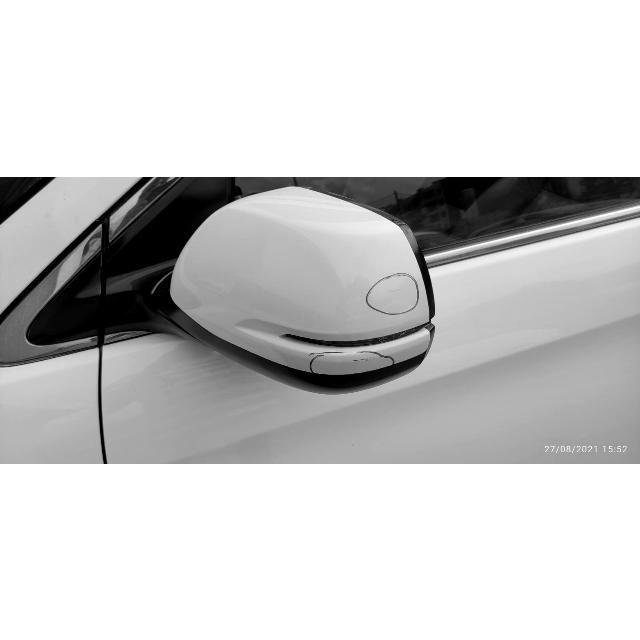Sidemirror-Damage: (166, 189, 450, 403)
